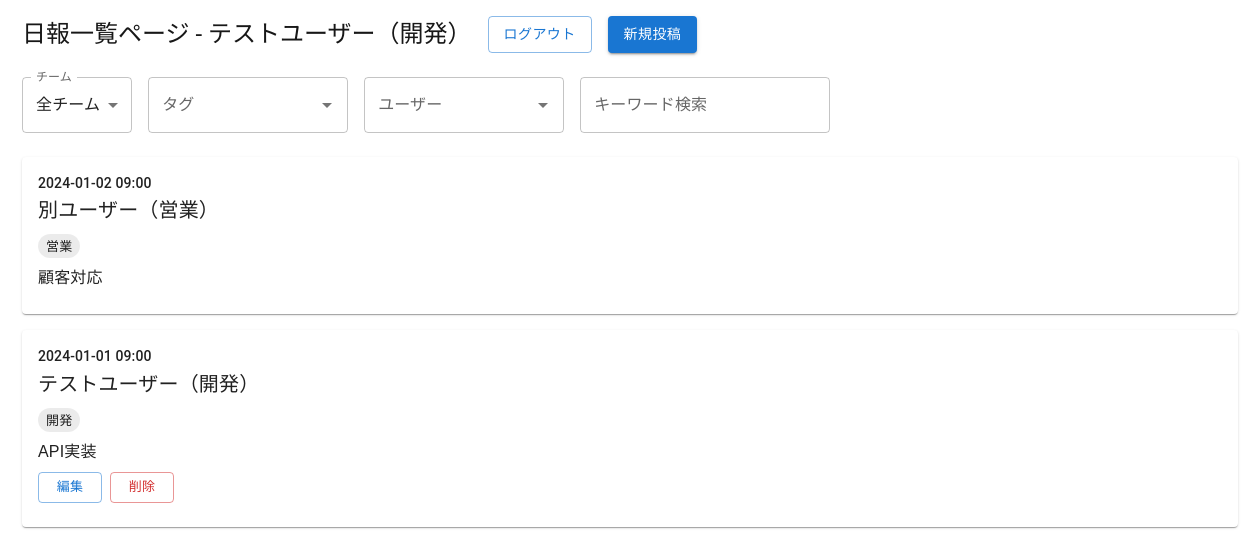
ReportsPage › フィルタリング機能 › チームフィルタリング：営業を選ぶと該当レポートだけ表示
Press the mouse on the dropdown labelled "チーム" at (68, 104), box top-left (36, 95), bottom-right (100, 114)
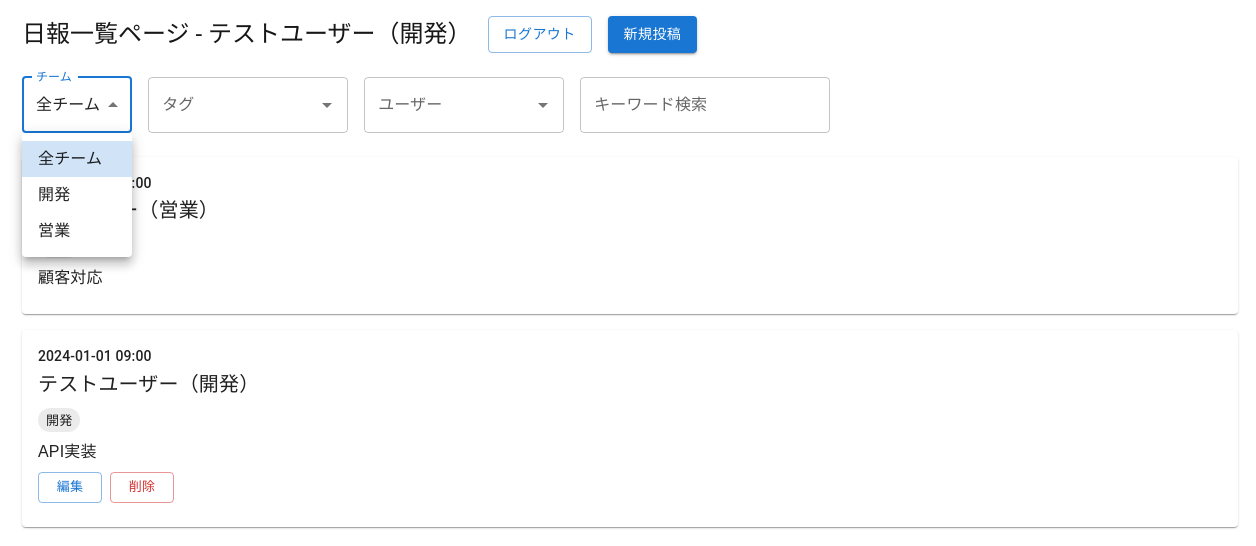
Click the option "営業" at (54, 230), box top-left (38, 221), bottom-right (70, 240)
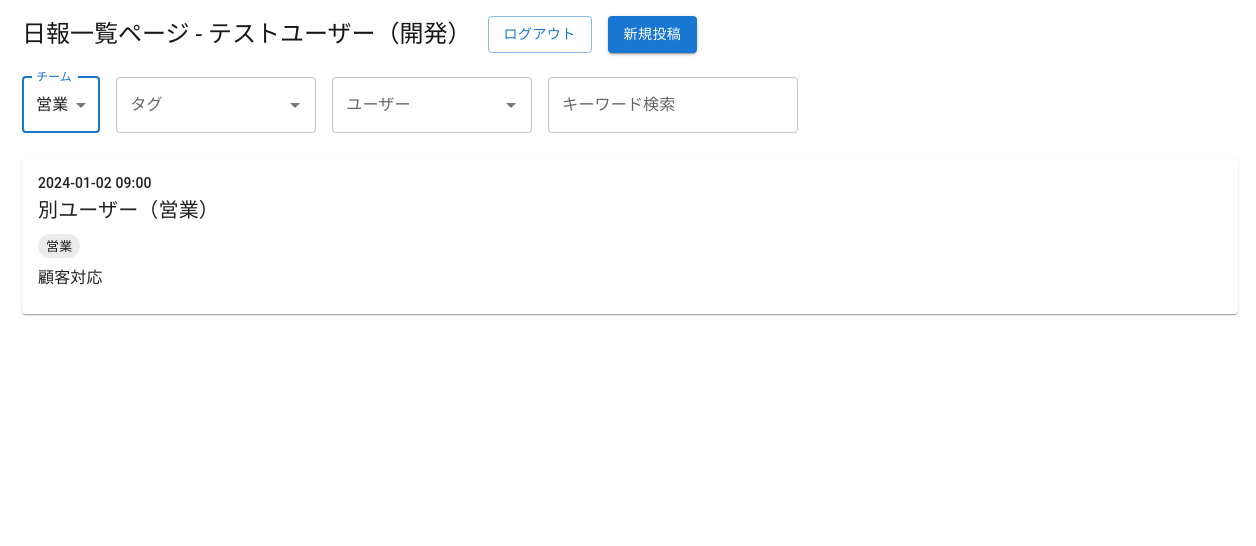
Expected: the text "顧客対応" is shown, top-left (38, 270), bottom-right (103, 286)
Now the text "API実装" is gone
